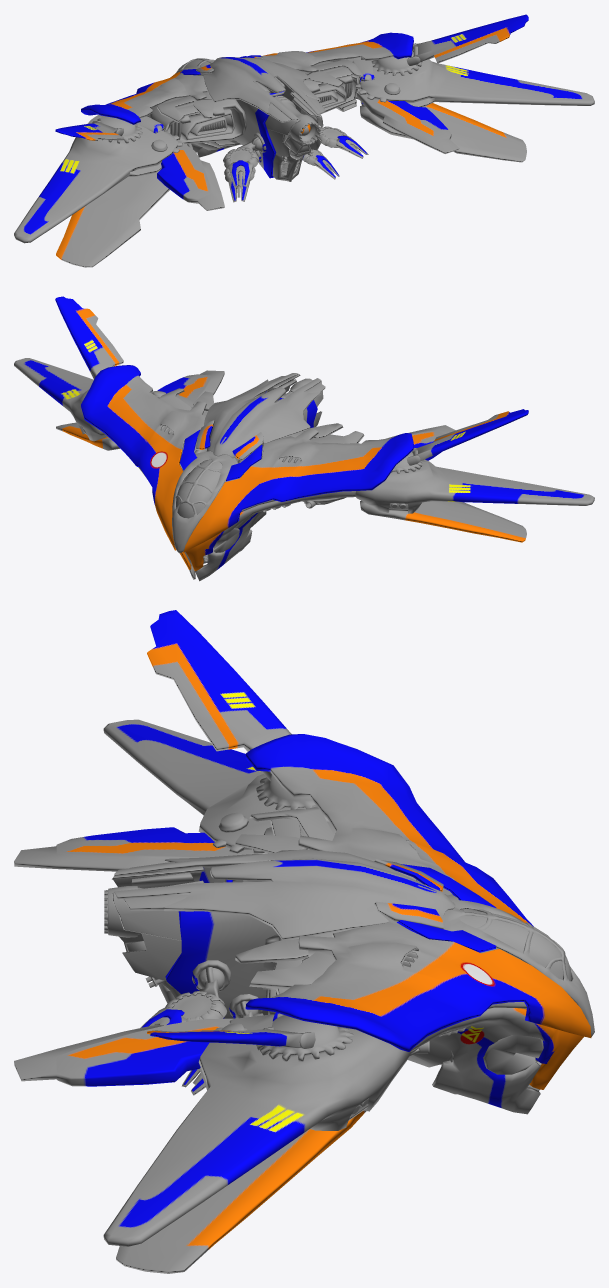
The model's file is GotG_Milano.fbx.
The picture shows the model from 3 angles, top to bottom: view 1: azimuth 30°, elevation 25°; view 2: azimuth 150°, elevation 25°; view 3: azimuth 270°, elevation 25°; orthographic projection. The views are drawn at different scales.
Visible parts, largest first — view 1: GotG Milano.Shape; view 2: GotG Milano.Shape; view 3: GotG Milano.Shape.
Part boxes in pixels (<box>): GotG Milano.Shape: <box>14,14,594,267</box>; GotG Milano.Shape: <box>14,296,594,581</box>; GotG Milano.Shape: <box>14,610,594,1273</box>.
Size of the model in its own units: 5800 by 1497 by 2730.
Materials: 54 (54 with a texture image).
